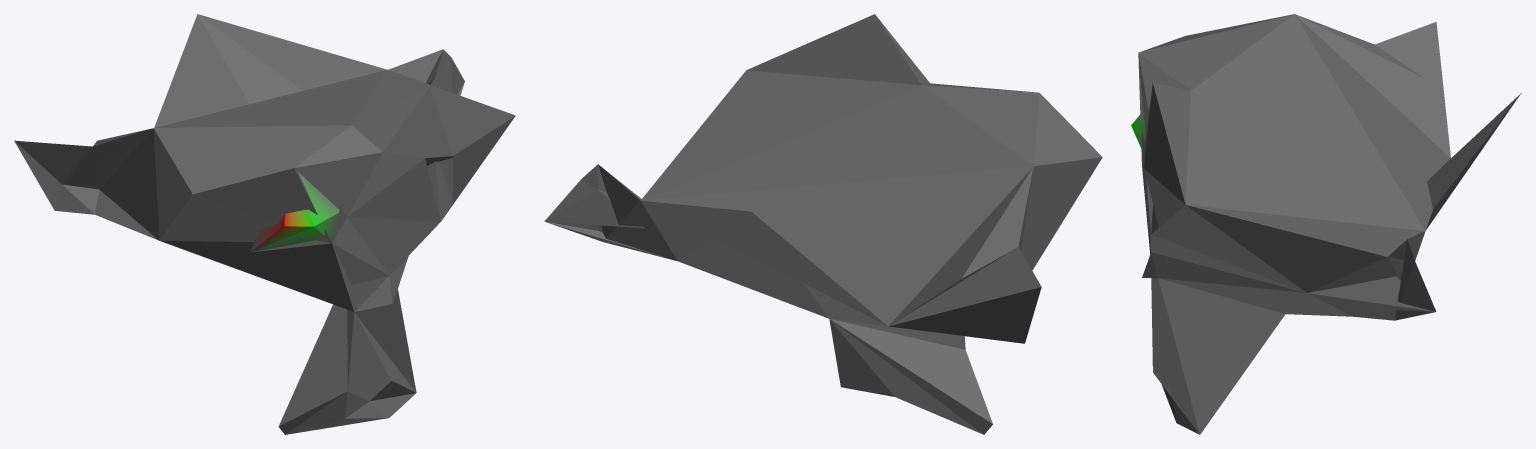
Rendered from After_Decimating_conquest.obj.
3 views of the same model, side by side, from view 1: azimuth 30°, elevation 25°; view 2: azimuth 150°, elevation 25°; view 3: azimuth 270°, elevation 25° (orthographic). The views are drawn at different scales.
Bounding box in the file's own units: 2.4 × 1.7 × 1.68.
